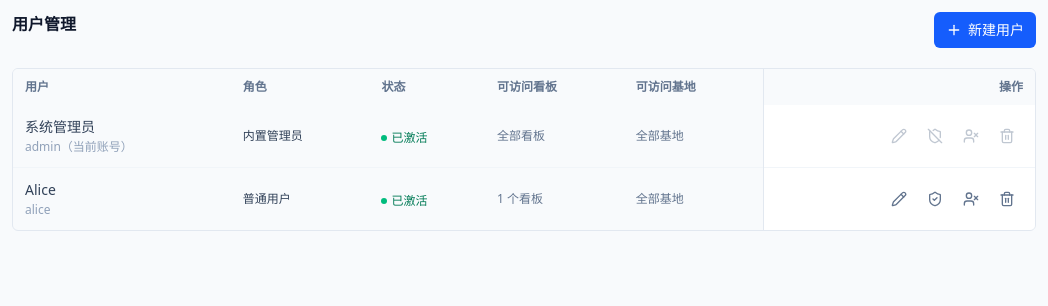
Test: user administrator roles › reports a failed role update and keeps the existing role for retry
Click the button named "设为管理员" at (935, 199), box [919, 183, 951, 215]
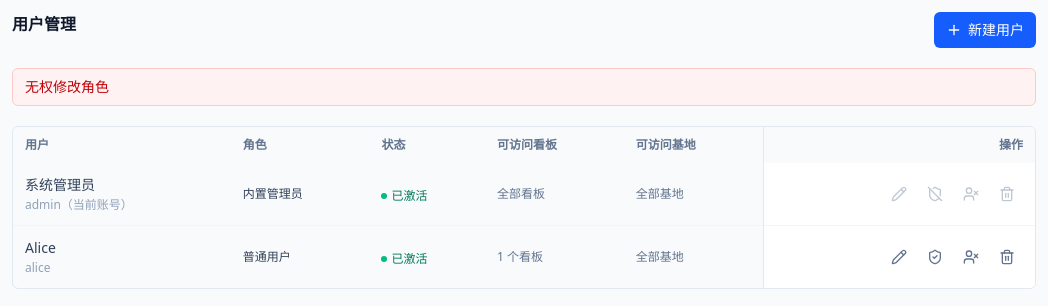
Check: the cell "普通用户" is shown, box [231, 226, 370, 288]
Check: the message reads "无权修改角色", box [25, 77, 109, 96]
